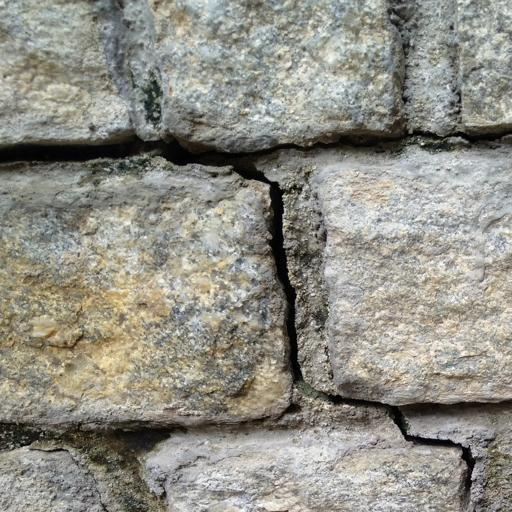major_crack: (6, 101, 512, 491)
